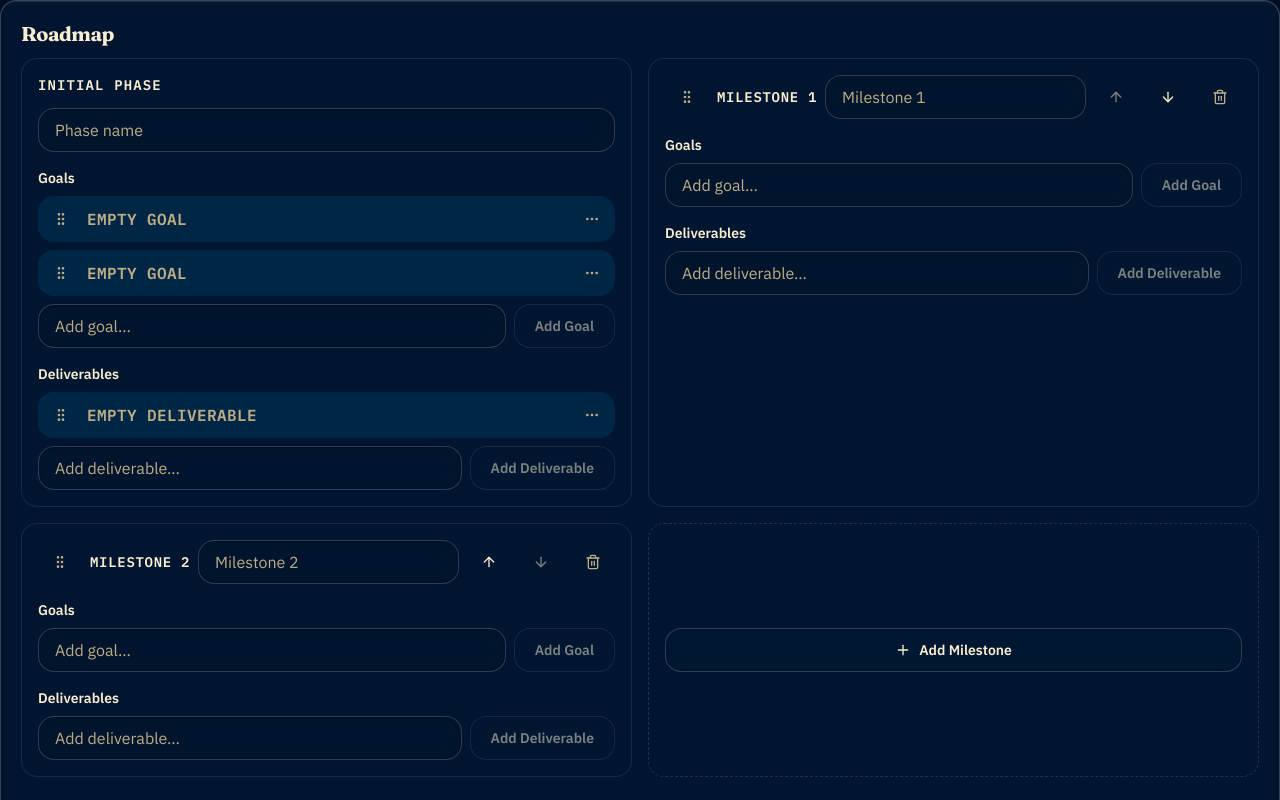
Test: RoadmapCard › supports empty names and values without key collisions or inaccessible controls
Expected: the button named "Drag milestone 1, milestone 1" is enabled, [665,75,709,119]
Expected: the button named "Move milestone 2, milestone 2 earlier" is enabled, [467,540,511,584]
Click the button named "Actions for goal with an empty value, phase 1, item 2": [592, 273] box [570,251,614,295]
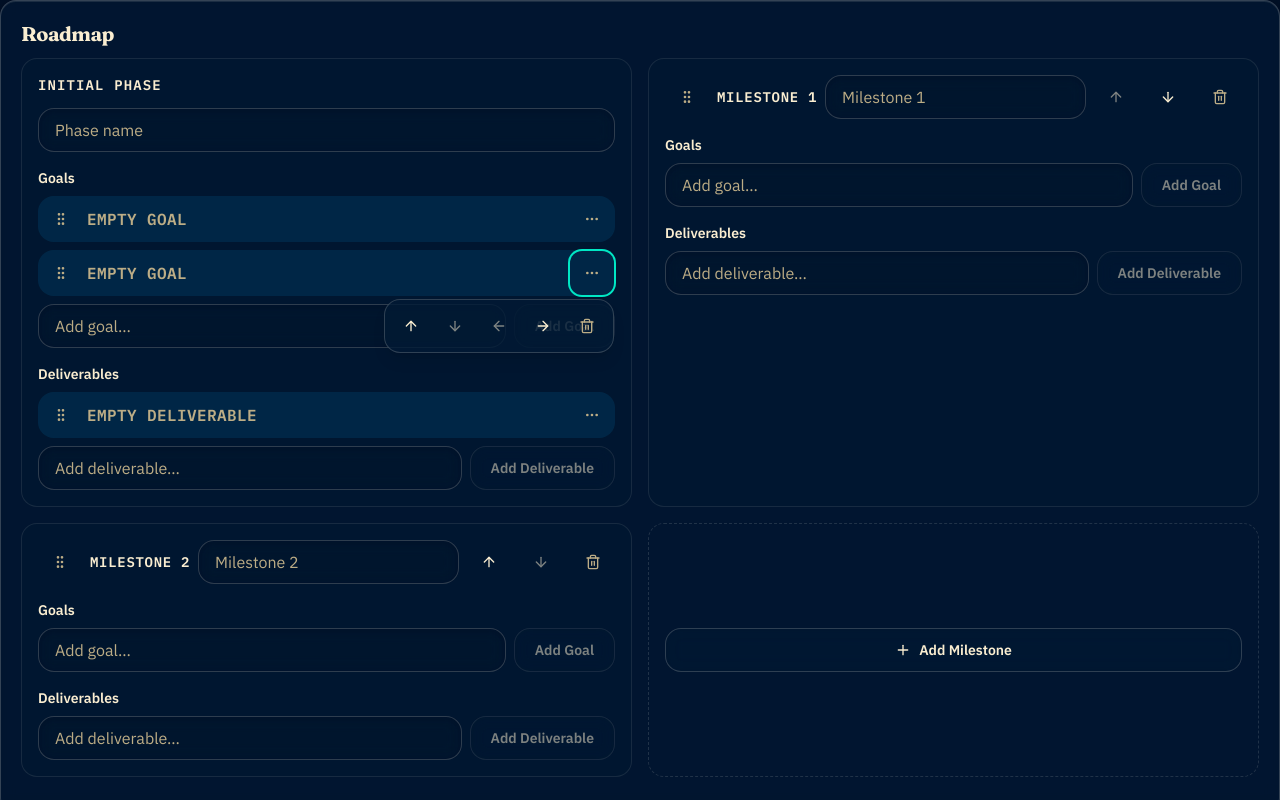
Click the button named "Remove goal with an empty value, phase 1, item 2": [587, 326] box [565,304,609,348]
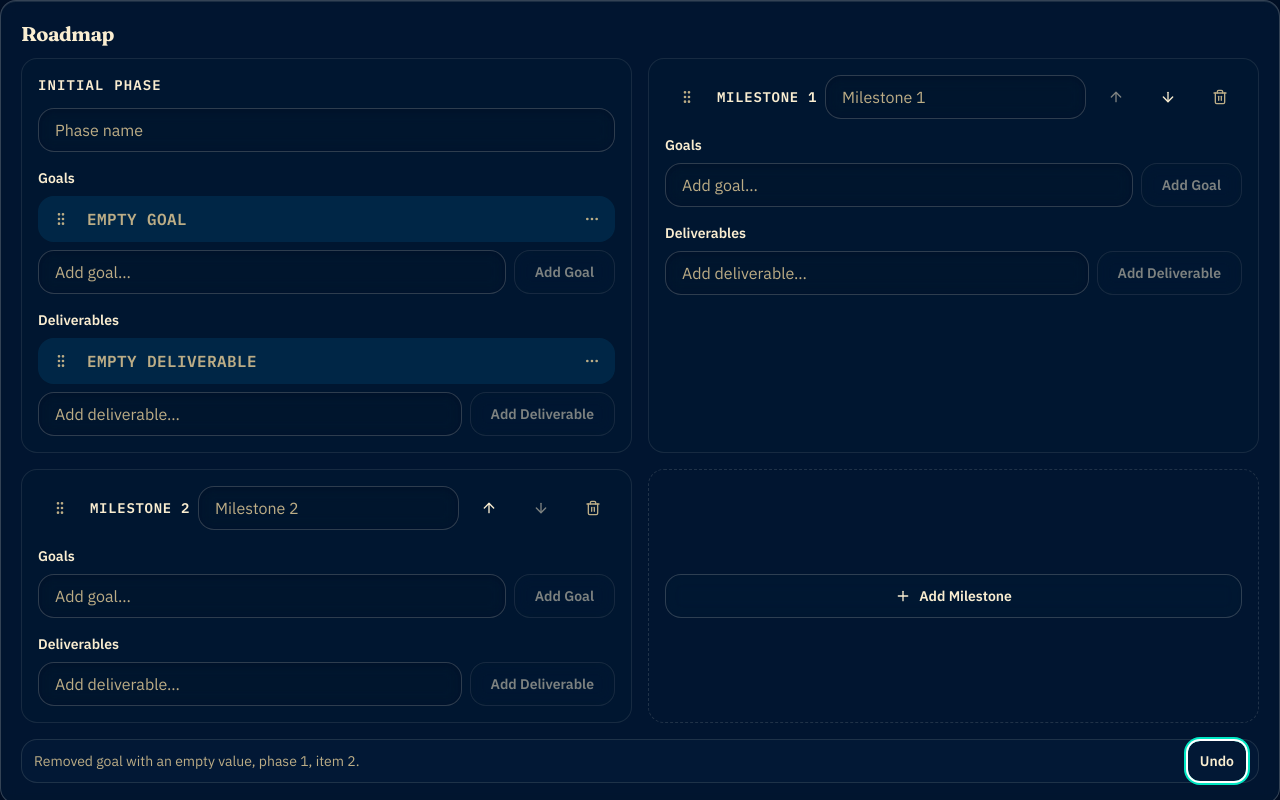
Expected: the message shows "Removed goal with an empty value, phase 1, item 2.", [34,752,360,770]
